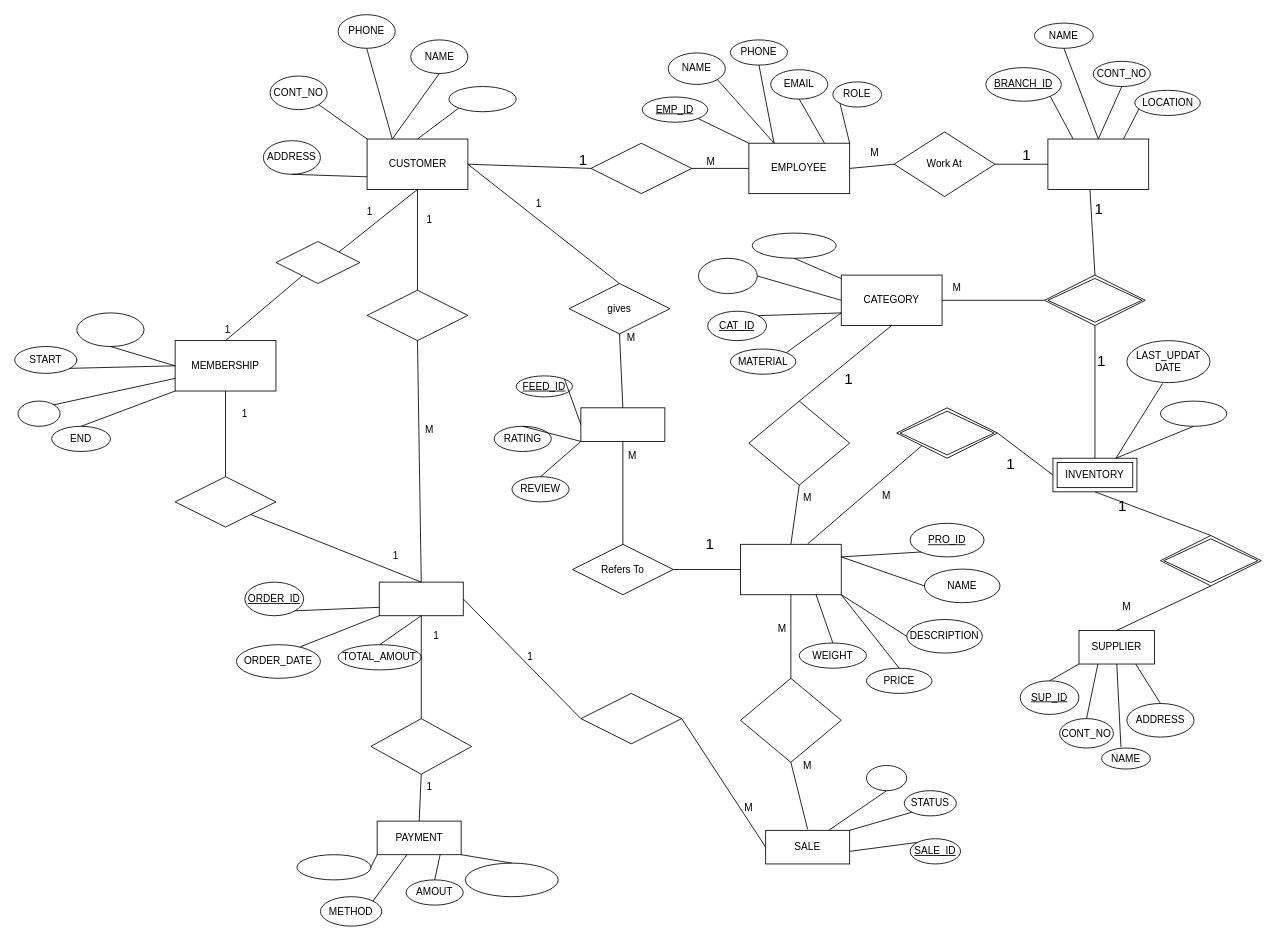
The diagram is 1276 pixels wide and 941 high, and some of its shapes have lost their labels. Here are the shapes that lost their labels. From the top down, the centre of each, then its label:
the point at 482,99: CUST_ID
the point at 641,168: Assist
the point at 1098,163: BRANCH
the point at 317,262: has
the point at 793,245: DISCRIPTION
the point at 727,275: C_NAME
the point at 417,315: Relationship
the point at 1094,300: have
the point at 110,329: MEM_ID
the point at 38,413: TYPE
the point at 622,424: FEEDBACK
the point at 947,432: tracked in
the point at 1193,413: QUNTITY
the point at 799,442: Contains
the point at 225,501: benifits
the point at 790,569: PRODUCT
the point at 1210,560: supplied by
the point at 420,598: ORDER
the point at 631,718: get discout
the point at 790,719: Sold in
the point at 421,746: Paid By
the point at 886,778: OFFER
the point at 333,867: PAYMENT_ID
the point at 511,879: PYMENT_DATE
